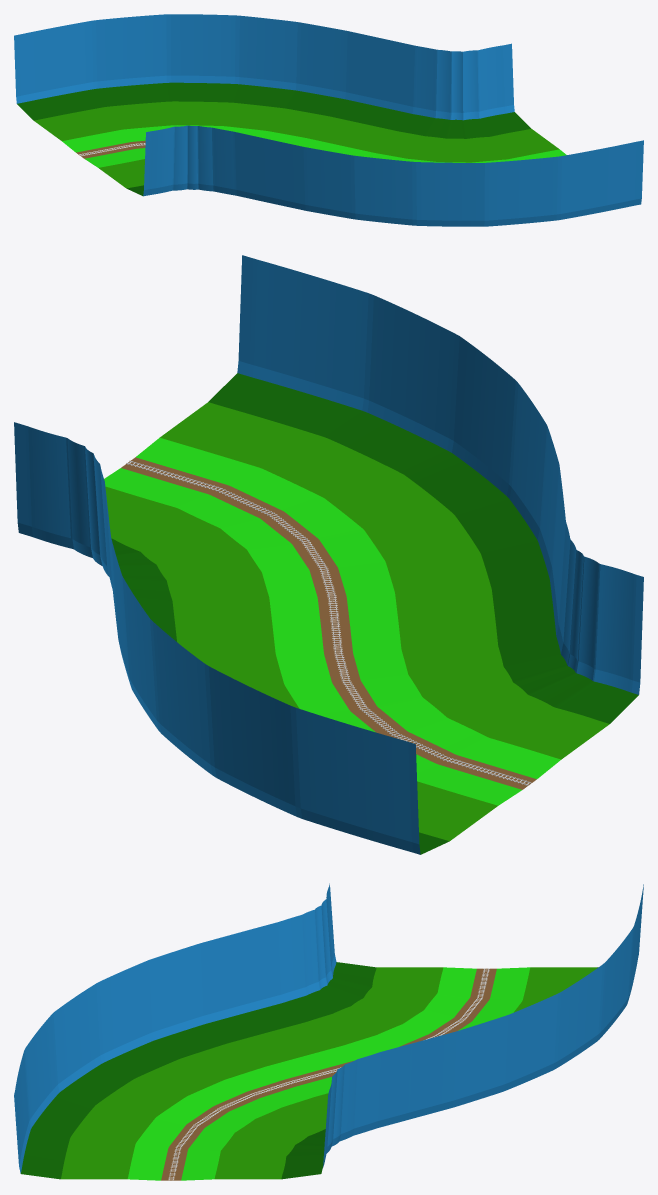
File: A_Slalom_Right.fbx
3 renders of one model, top to bottom at view 1: azimuth 30°, elevation 25°; view 2: azimuth 150°, elevation 25°; view 3: azimuth 270°, elevation 25°, orthographic. The views are drawn at different scales.
Parts seen in each view (by area): view 1: ZigZagD; view 2: ZigZagD; view 3: ZigZagD.
Boxes of the visible parts, x1=… form: ZigZagD: x1=14, y1=14, x2=643, y2=226; ZigZagD: x1=14, y1=255, x2=643, y2=854; ZigZagD: x1=14, y1=883, x2=643, y2=1180.
Bounding box in the file's own units: 15972 × 3000 × 20056.
